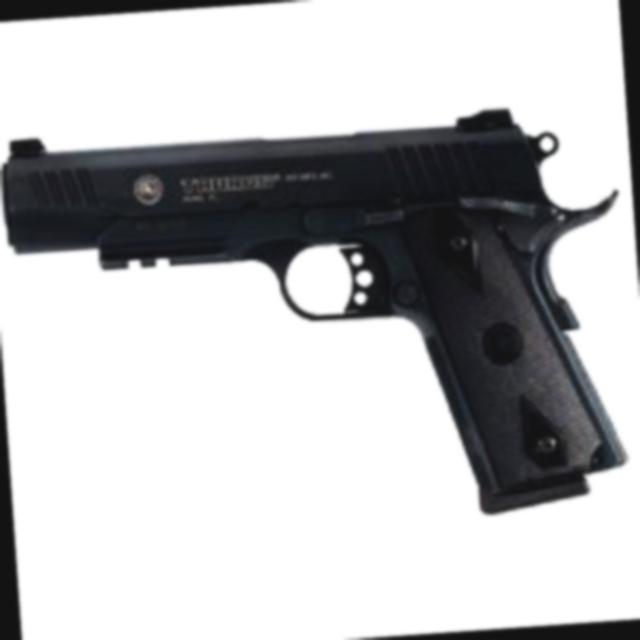semi automatic: (0, 75, 640, 558)
